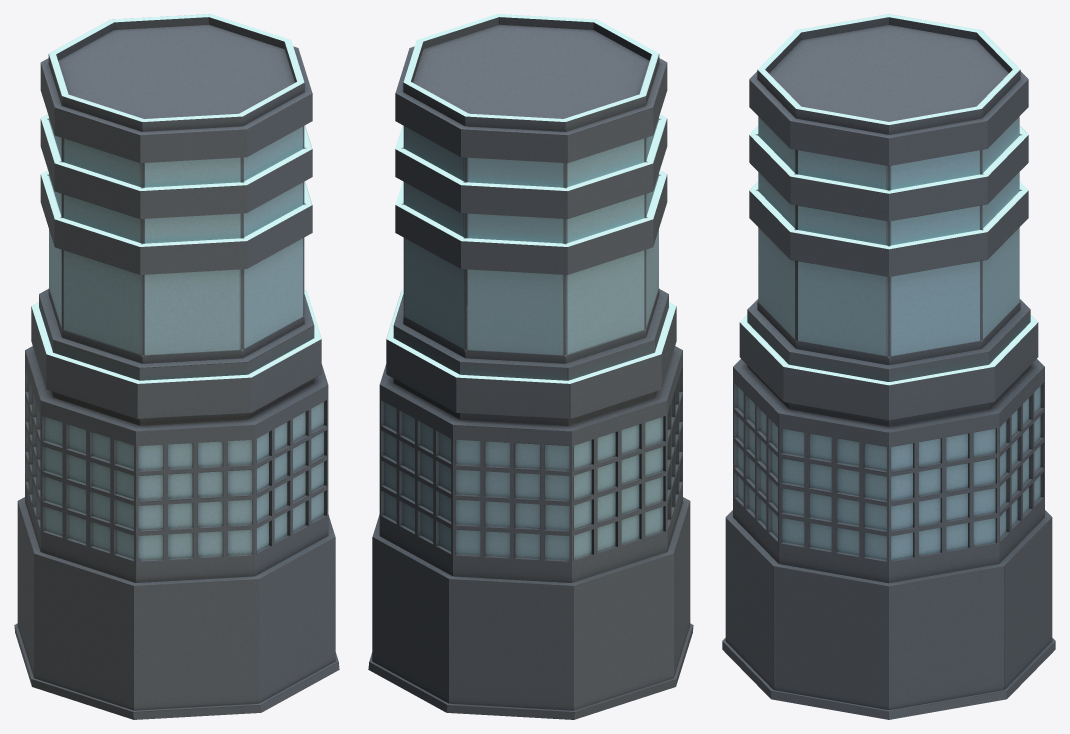
The model's file is Silos_c.gltf.
3 views of the same model, side by side, from view 1: azimuth 30°, elevation 25°; view 2: azimuth 150°, elevation 25°; view 3: azimuth 270°, elevation 25° (orthographic).
Visible parts, largest first — view 1: Silos; view 2: Silos; view 3: Silos.
Part boxes in pixels (x1=…): Silos: x1=14, y1=14, x2=339, y2=719; Silos: x1=368, y1=14, x2=693, y2=719; Silos: x1=722, y1=14, x2=1055, y2=719.
Size of the model in its own units: 39.97 by 76.42 by 39.86.
Materials: 3 (3 with a texture image).
